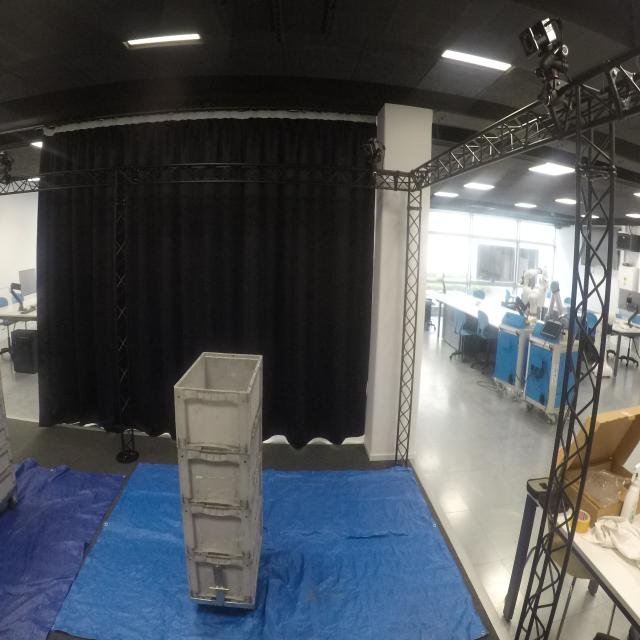Box4G: (172, 350, 266, 454), (174, 405, 265, 509), (180, 465, 266, 558), (183, 512, 267, 602)
